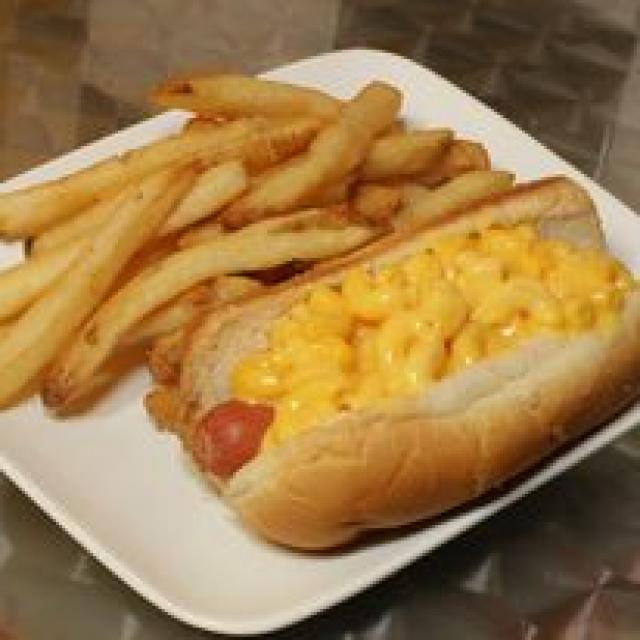French Fries: (3, 59, 500, 242)
